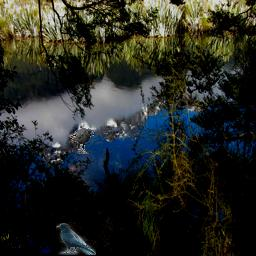Crow: (56, 223, 96, 255), (69, 128, 94, 154)
